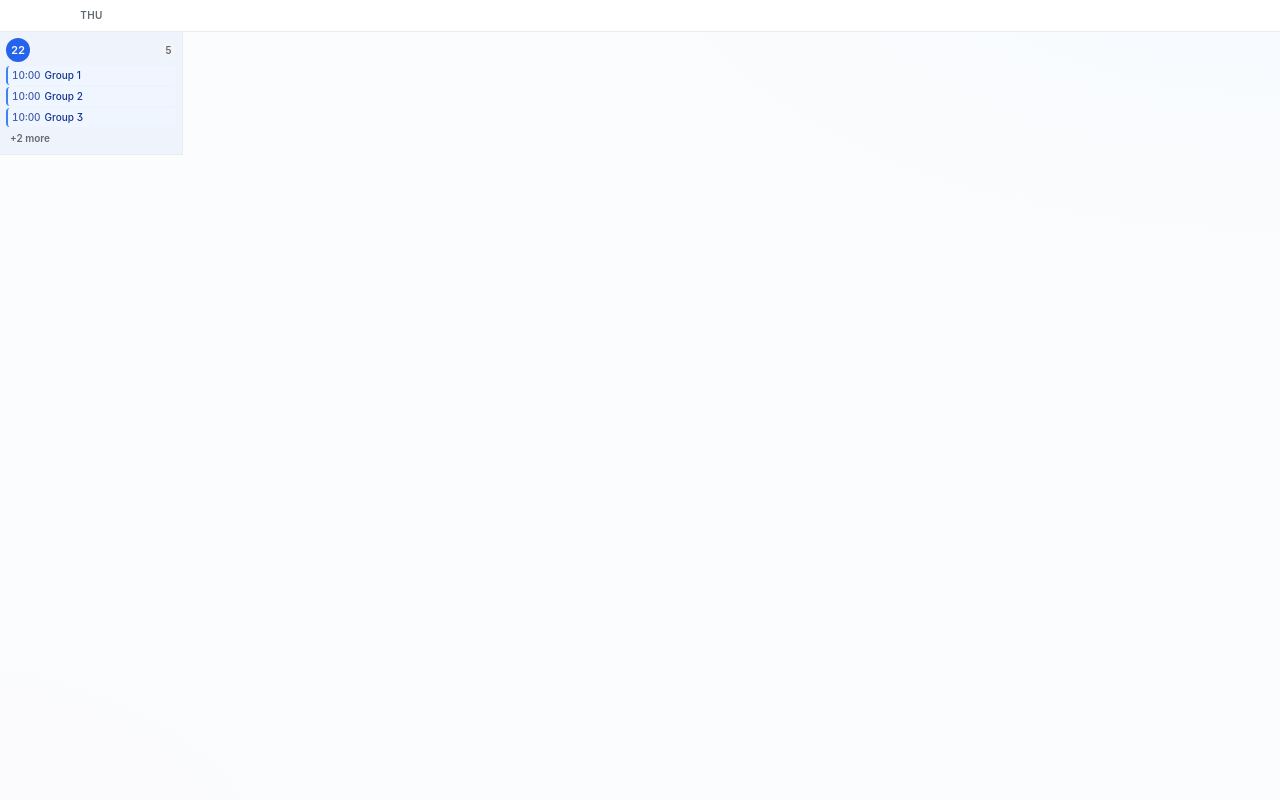
Test: schedule modals › opens all events for an overflowing day and restores focus when dismissed
Step 1. Click the button "+2 more" → (91, 138), box [6, 129, 176, 148]
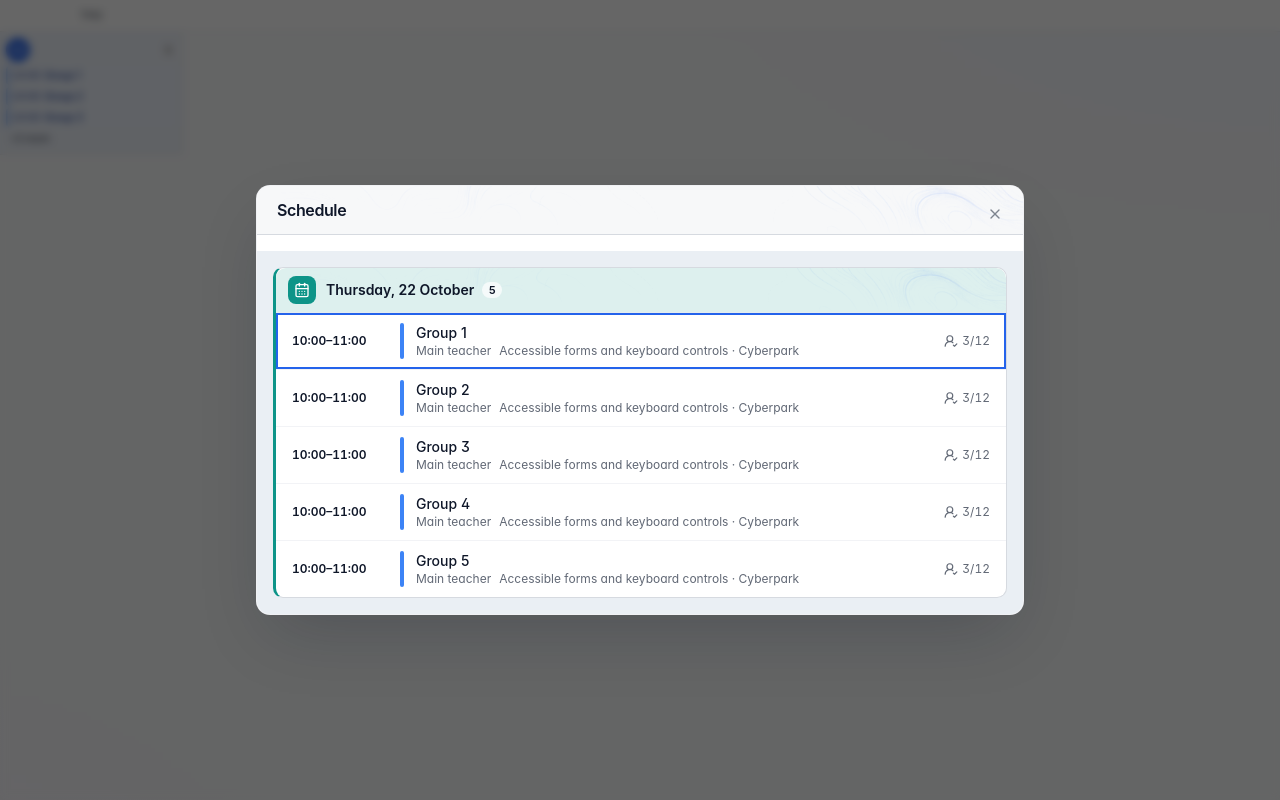
Result: the text "Thursday, 22 October" is shown once at [326, 280, 474, 300]
Result: the number of buttons named "10:00–11:00, Group" is 5 at [276, 313, 1006, 369]; [276, 370, 1006, 426]; [276, 427, 1006, 483]; [276, 484, 1006, 540]; [276, 541, 1006, 597]
Step 2. Press Escape
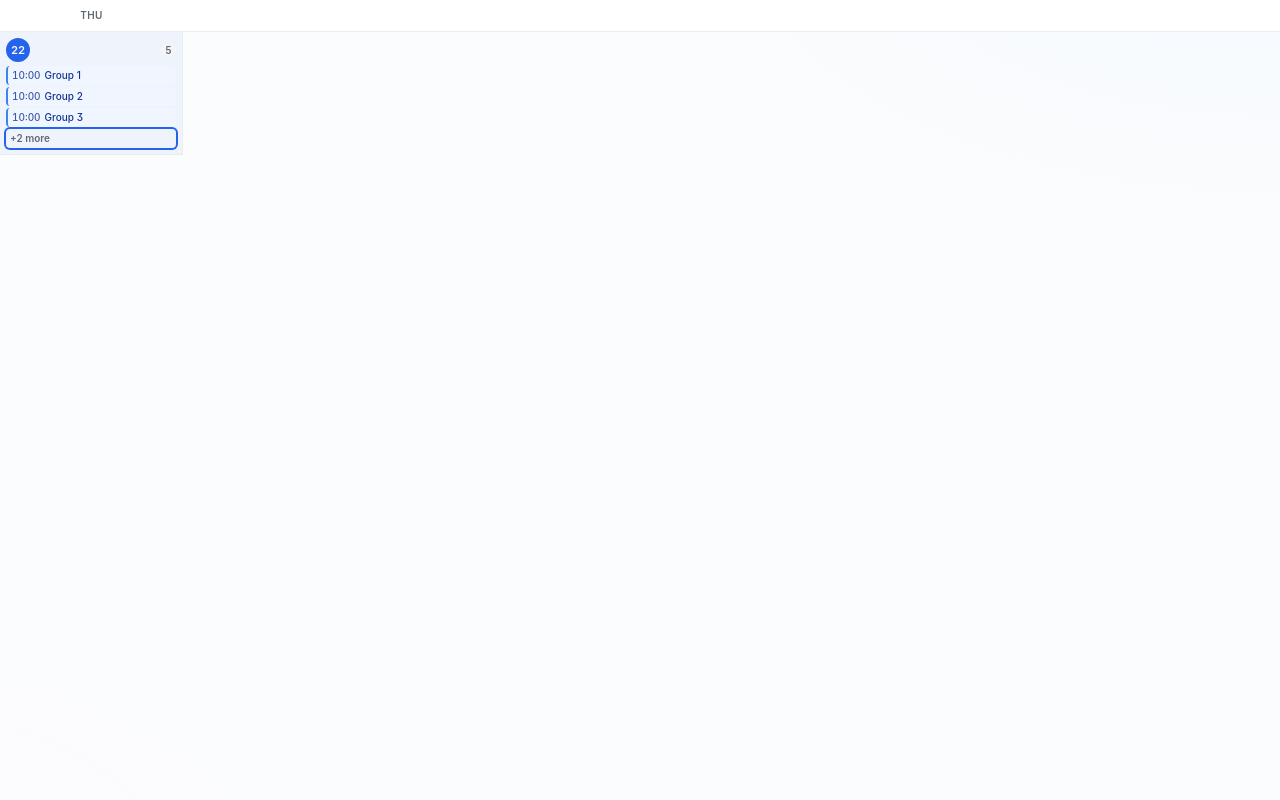
Step 3. Click the button "+2 more" → (91, 138), box [6, 129, 176, 148]
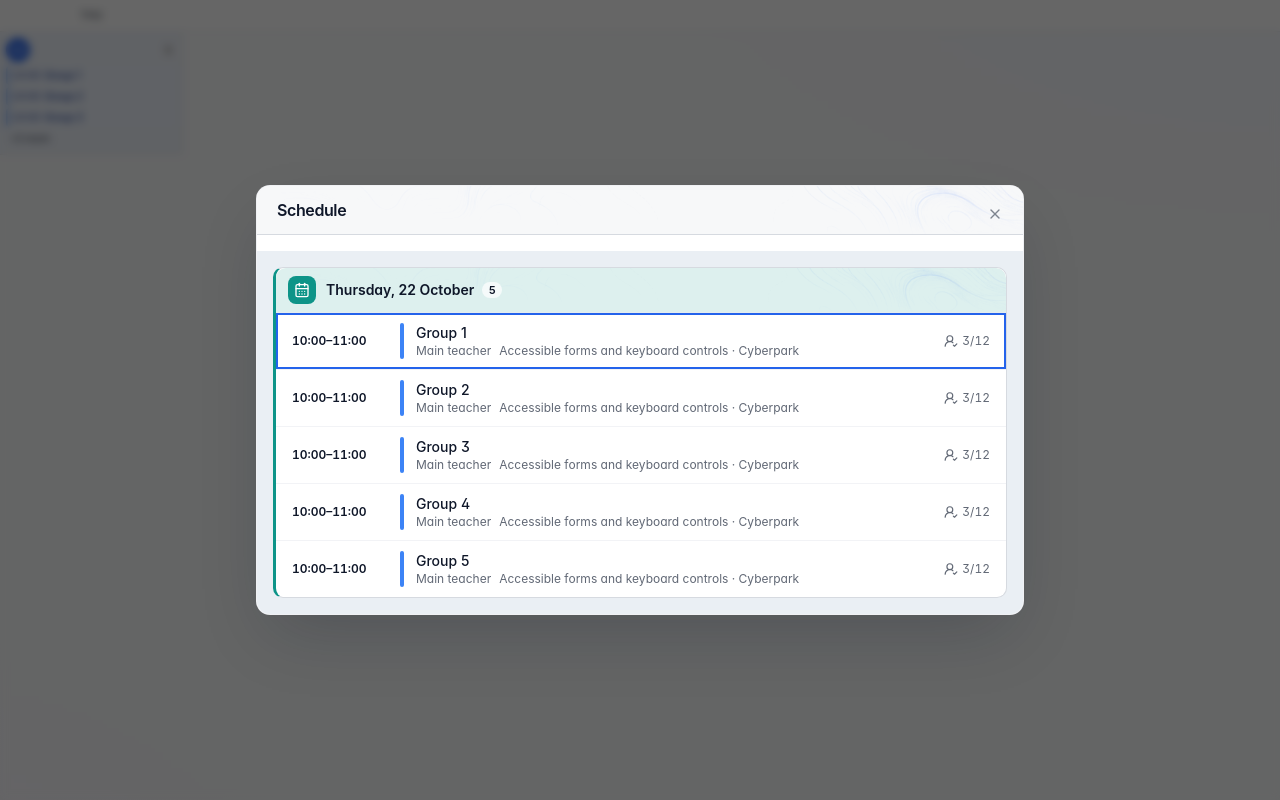
Step 4. Click the button with aria-label "10:00–11:00, Group 5" → (641, 569), box [276, 541, 1006, 597]
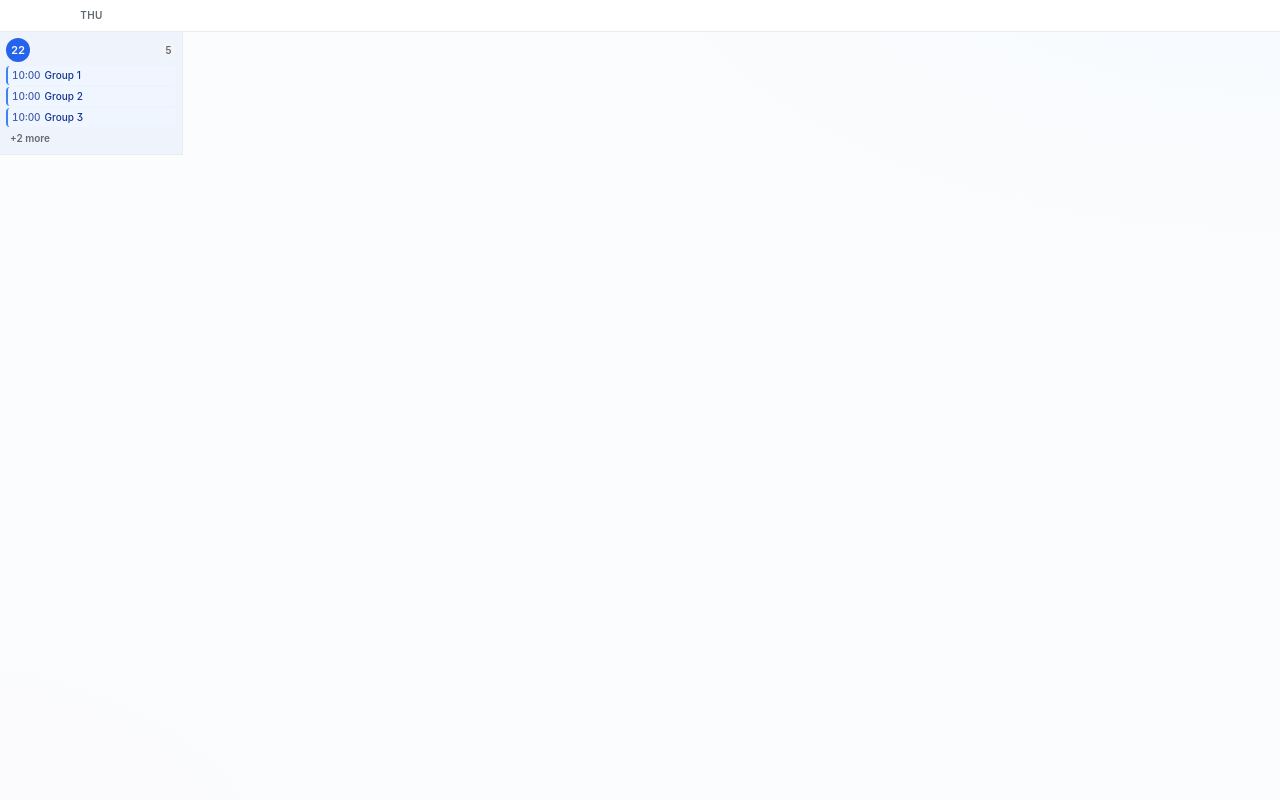
Result: the dialog is gone
